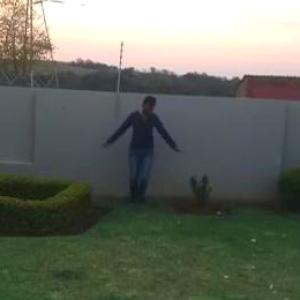land: (97, 86, 187, 212)
